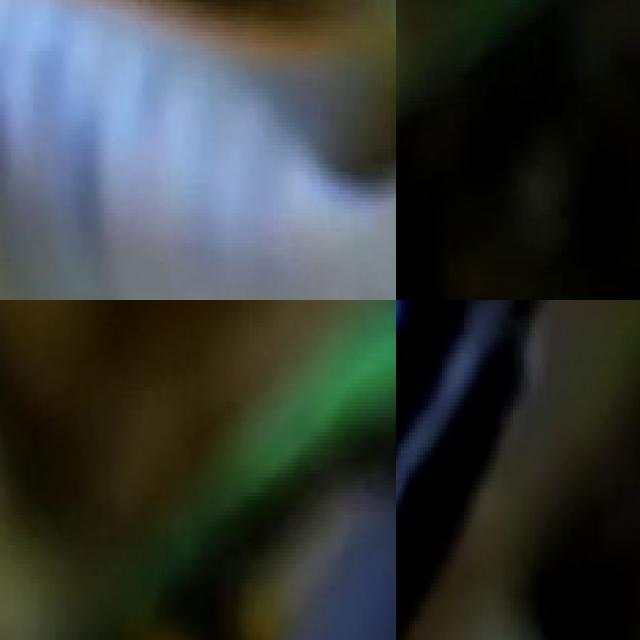fish: (0, 0, 396, 300), (396, 300, 640, 640)
